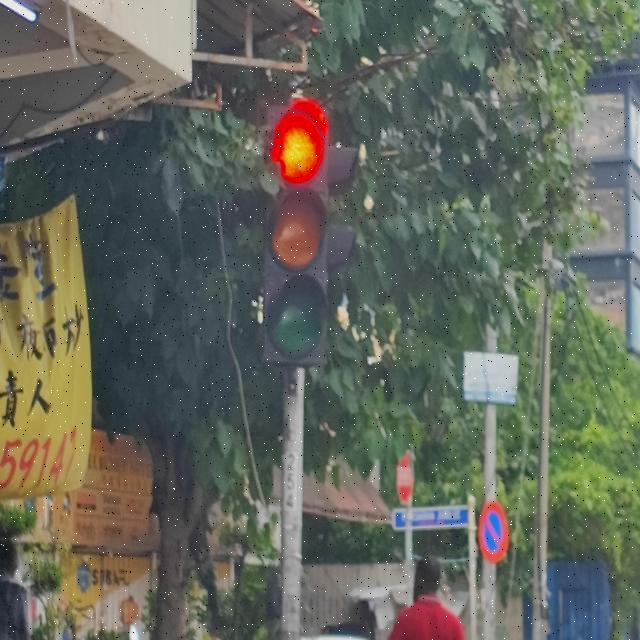red_light: (262, 95, 330, 364)
